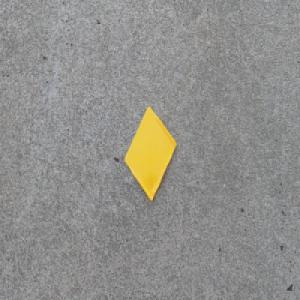PlasticPart: (123, 105, 177, 203)
